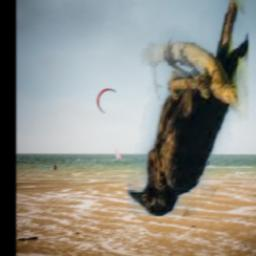Crow: (128, 0, 249, 216)
